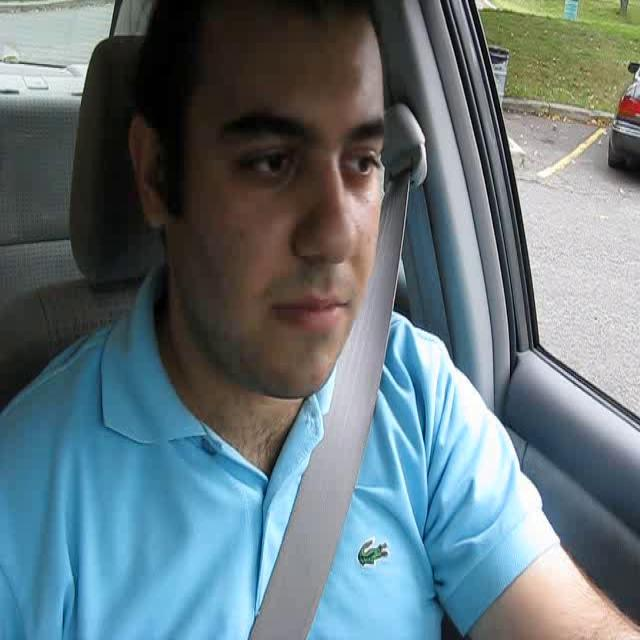close: (273, 290, 348, 334)
